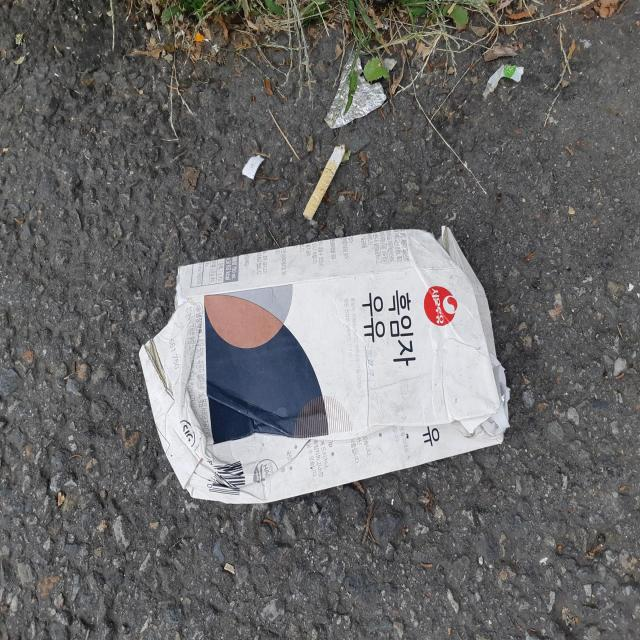paperpack: (139, 226, 510, 504)
